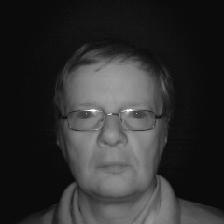normal: (38, 32, 179, 202)
